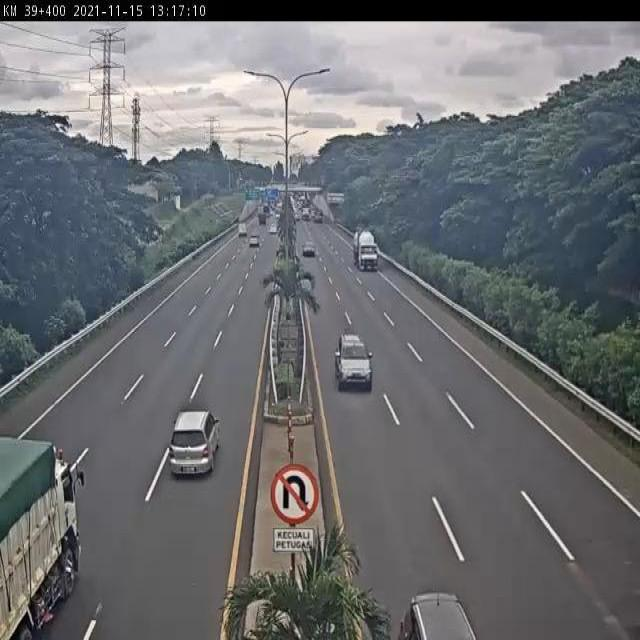car: (168, 408, 223, 480), (333, 332, 374, 391)
truck-m-: (0, 434, 84, 640)
truck-xl-: (351, 227, 381, 274)
